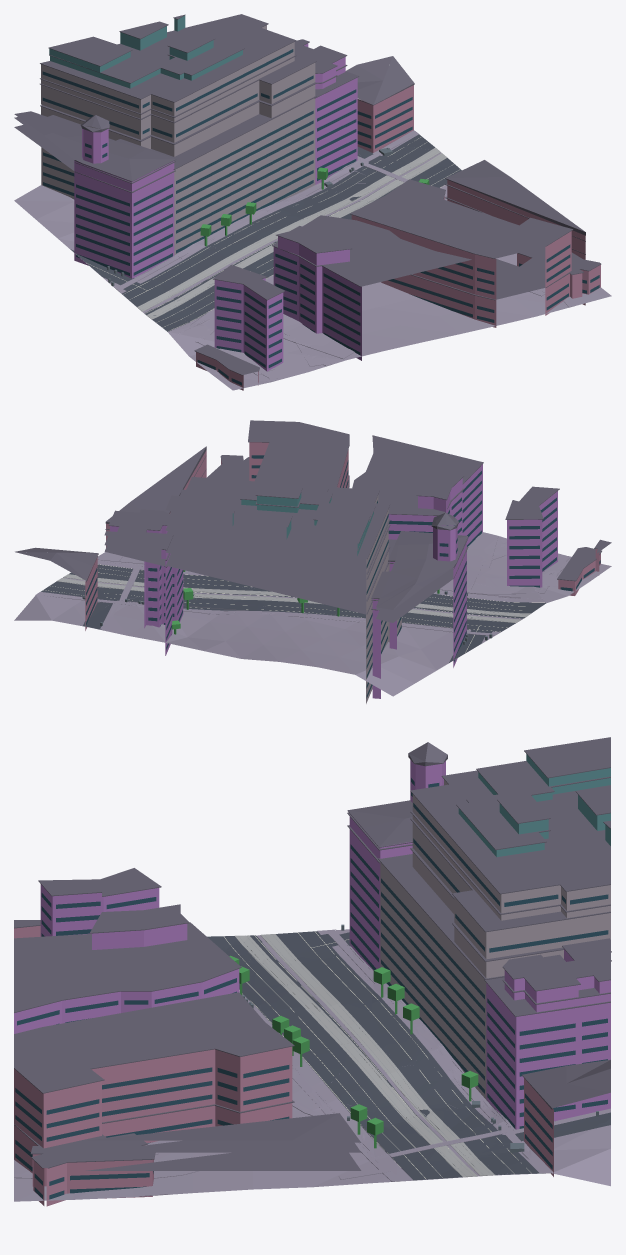
The picture shows the model from 3 angles, top to bottom: view 1: azimuth 30°, elevation 25°; view 2: azimuth 150°, elevation 25°; view 3: azimuth 270°, elevation 25°; orthographic projection. The views are drawn at different scales.
Visible parts, largest first — view 1: compiled-chunk; view 2: compiled-chunk; view 3: compiled-chunk.
Boxes of the visible parts, x1,y1,x2,y2 form: compiled-chunk: [14, 14, 611, 390]; compiled-chunk: [14, 420, 611, 703]; compiled-chunk: [14, 737, 611, 1206].
Size of the model in its own units: 120 by 61.33 by 120.
